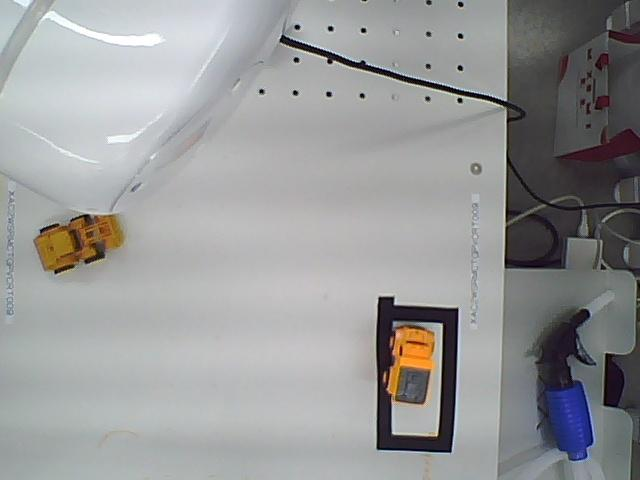Diesel car: (382, 324, 437, 407)
Gasoline car: (30, 213, 125, 282)
